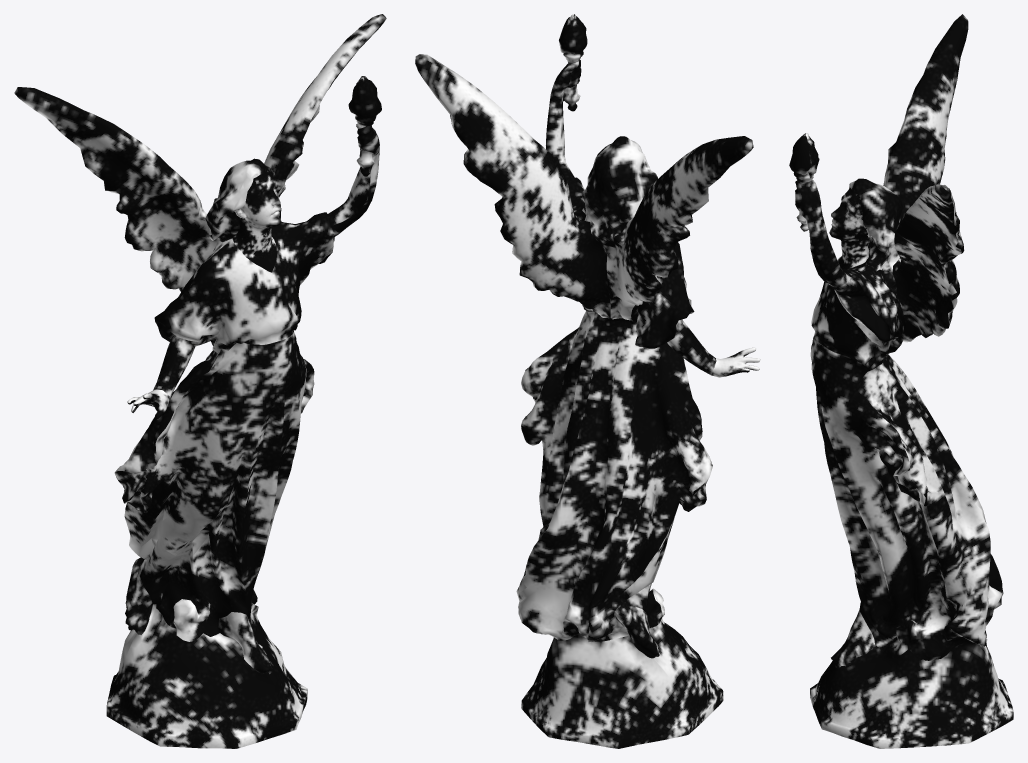
The model's file is angel_tex.obj.
3 renders of one model, left to right at view 1: azimuth 30°, elevation 25°; view 2: azimuth 150°, elevation 25°; view 3: azimuth 270°, elevation 25°, orthographic. The views are drawn at different scales.
Visible parts, largest first — view 1: Stanford's_Lucy_Angel.001; view 2: Stanford's_Lucy_Angel.001; view 3: Stanford's_Lucy_Angel.001.
Boxes of the visible parts, <box> form: Stanford's_Lucy_Angel.001: <box>14,14,386,748</box>; Stanford's_Lucy_Angel.001: <box>415,14,760,748</box>; Stanford's_Lucy_Angel.001: <box>789,14,1013,748</box>.
Size of the model in its own units: 8.08 by 13.93 by 4.54.
1 material, 1 textured.
